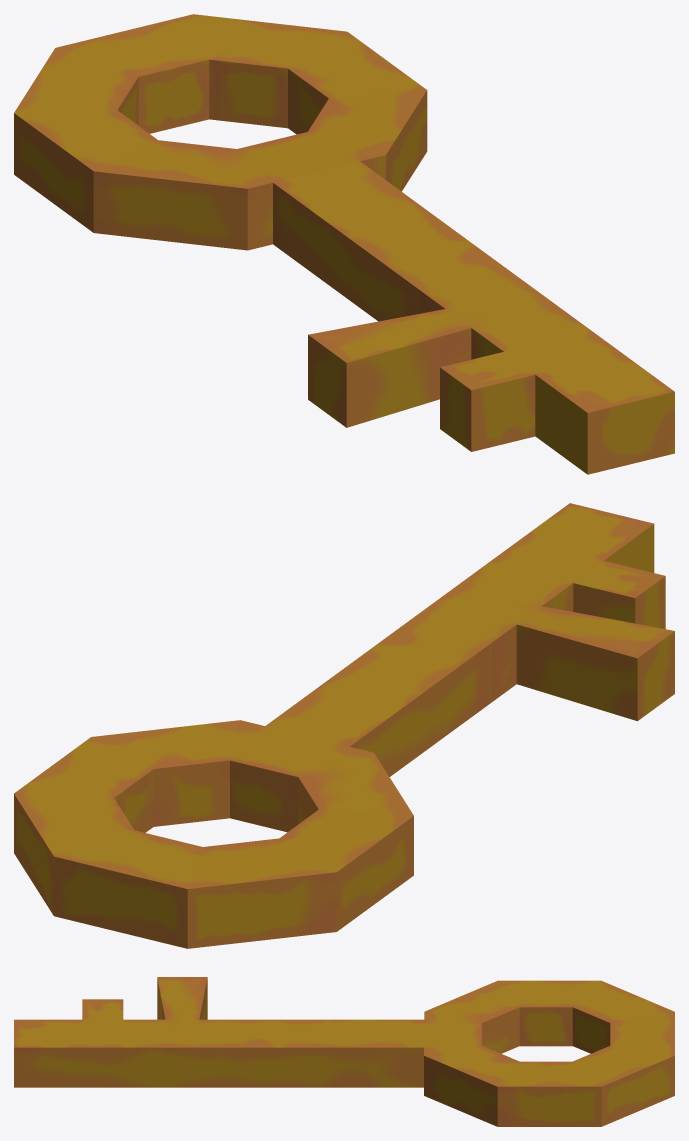
File: key.obj
The picture shows the model from 3 angles, top to bottom: view 1: azimuth 30°, elevation 25°; view 2: azimuth 150°, elevation 25°; view 3: azimuth 270°, elevation 25°; orthographic projection. The views are drawn at different scales.
Visible parts, largest first — view 1: Cylinder; view 2: Cylinder; view 3: Cylinder.
Boxes of the visible parts, <box> form: Cylinder: <box>14,14,674,474</box>; Cylinder: <box>14,503,674,948</box>; Cylinder: <box>14,977,674,1126</box>.
Size of the model in its own units: 0.2622 by 0.0477 by 0.6743.
